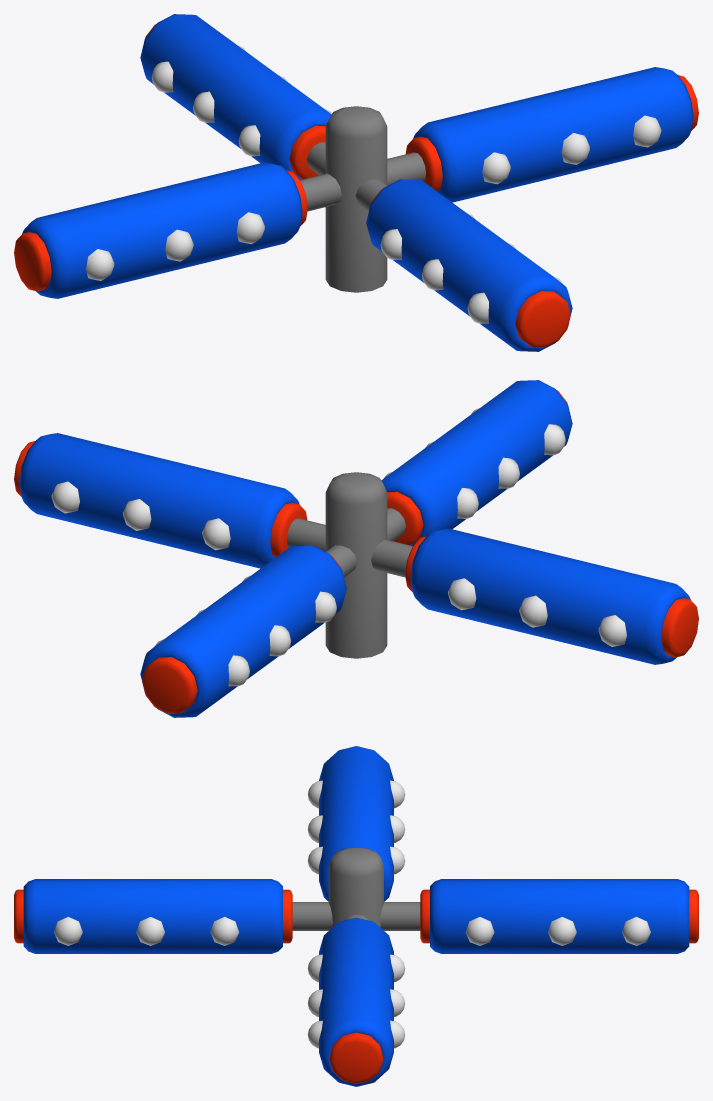
The model's file is spinnerObs.glb.
3 renders of one model, top to bottom at view 1: azimuth 30°, elevation 25°; view 2: azimuth 150°, elevation 25°; view 3: azimuth 270°, elevation 25°, orthographic. The views are drawn at different scales.
Visible parts, largest first — view 1: turning round grinder, turning round grinder holder; view 2: turning round grinder, turning round grinder holder; view 3: turning round grinder, turning round grinder holder.
Boxes of the visible parts, x1,y1,x2,y2 form: turning round grinder: [14, 14, 698, 351]; turning round grinder holder: [325, 106, 387, 292]; turning round grinder: [14, 380, 698, 717]; turning round grinder holder: [325, 472, 387, 658]; turning round grinder: [14, 746, 698, 1086]; turning round grinder holder: [328, 847, 383, 927].
Bounding box in the file's own units: 0.0499 × 0.012 × 0.0499.
